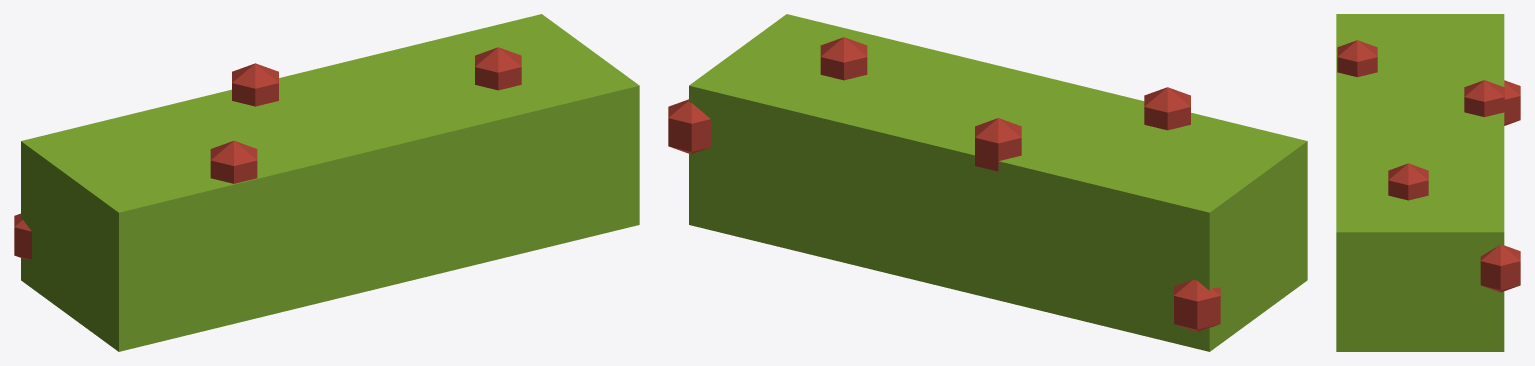
File: Bush.fbx
3 renders of one model, left to right at view 1: azimuth 30°, elevation 25°; view 2: azimuth 150°, elevation 25°; view 3: azimuth 270°, elevation 25°, orthographic. The views are drawn at different scales.
Parts seen in each view (by area): view 1: Bush_Geo; view 2: Bush_Geo; view 3: Bush_Geo.
Part boxes in pixels (<box>): Bush_Geo: <box>14,14,639,351</box>; Bush_Geo: <box>668,14,1307,351</box>; Bush_Geo: <box>1336,14,1520,351</box>.
Size of the model in its own units: 108 by 31.83 by 36.23.
